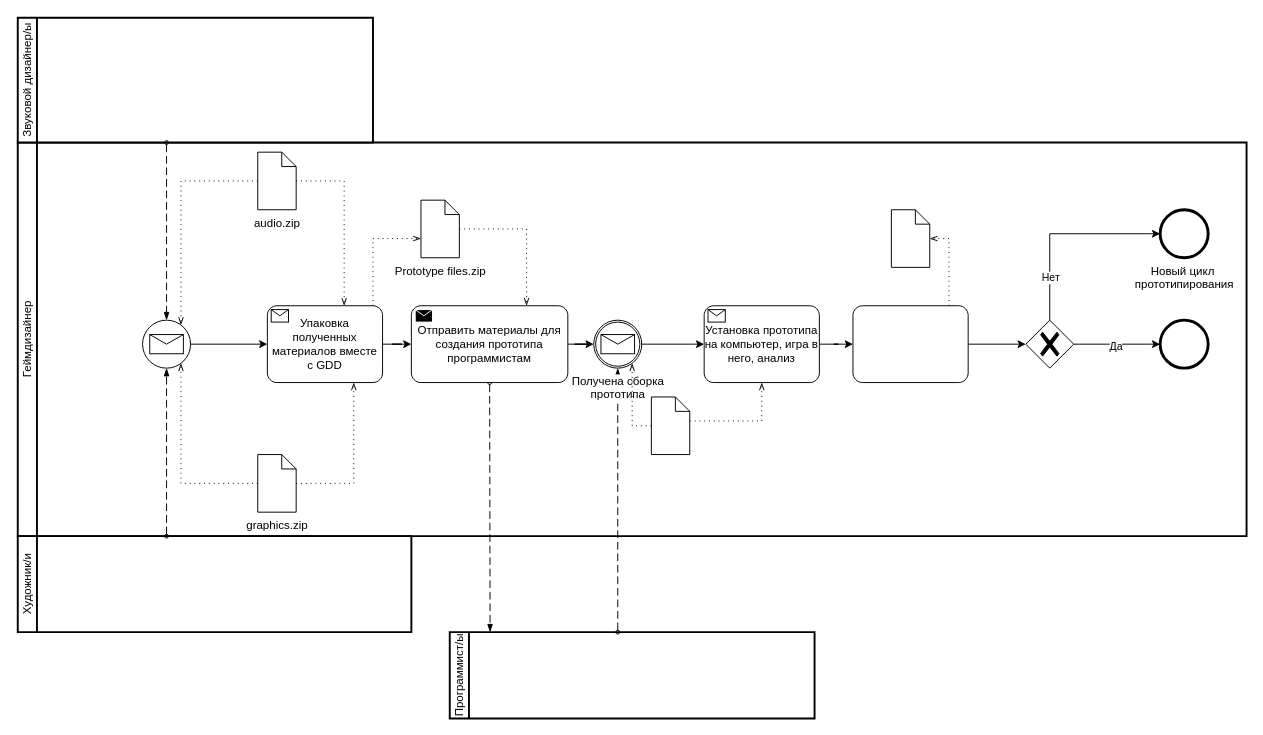
This 1263x735 diagram has some shape labels left out. The centre of each missing label's shape, as x and y in pixels:
"prototype.zip" belongs at pixel 670 425.
"Готов ли геймдизайн для игры к полноценной разработке" belongs at pixel 1049 343.
"Конец этапа прототипирования" belongs at pixel 1183 343.
"Получены звуки и графические материалы для создания прототипа" belongs at pixel 166 343.
"Составляем список замечаний и исправлений к прототипу" belongs at pixel 910 344.
"Список замечаний.doc" belongs at pixel 910 238.
